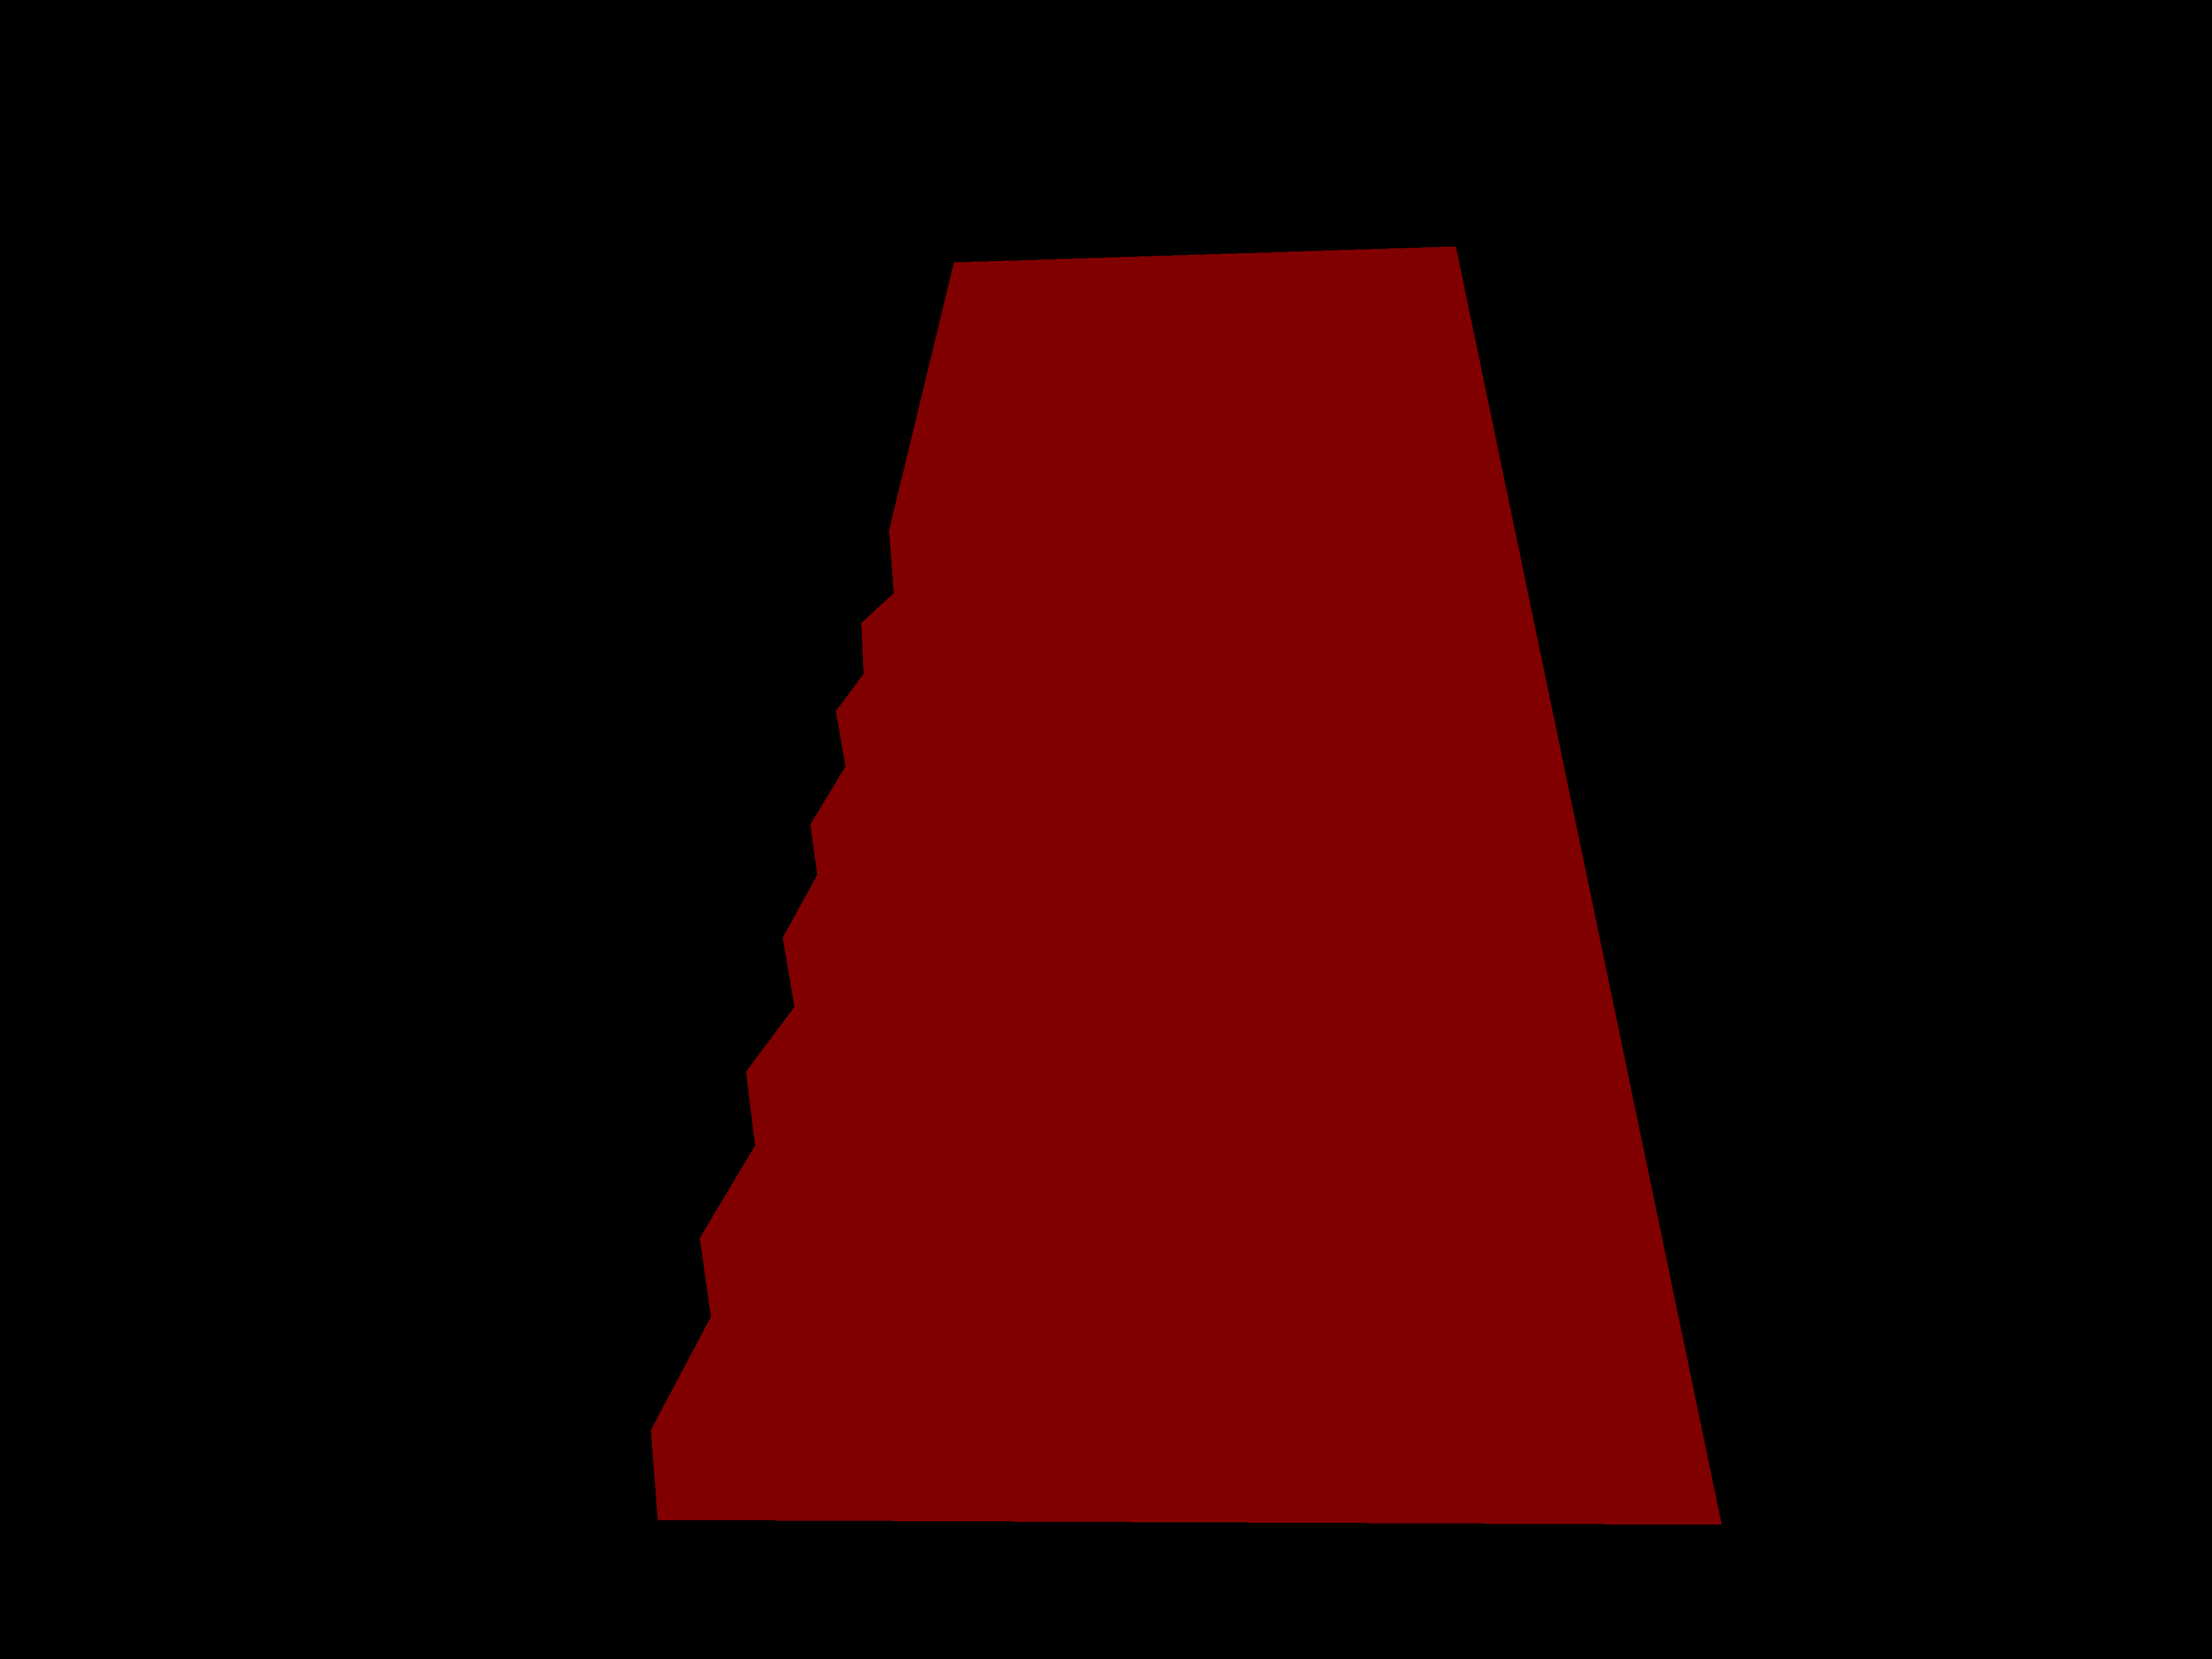stair: (651, 246, 1721, 1525)
